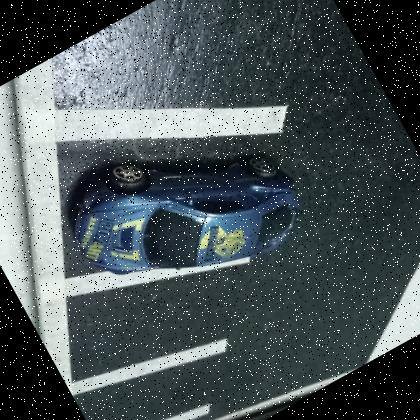Car: (69, 153, 300, 274)
